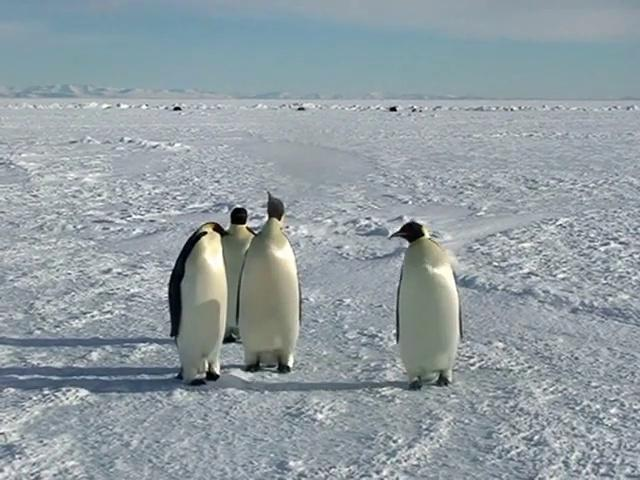animal: (391, 221, 461, 388)
